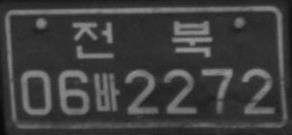0: (19, 68, 52, 116)
2: (241, 66, 276, 114), (124, 68, 159, 115), (163, 67, 197, 114)
6: (58, 67, 90, 116)
7: (200, 67, 235, 116)
바: (92, 72, 120, 112)
전북_D: (71, 20, 213, 59)
